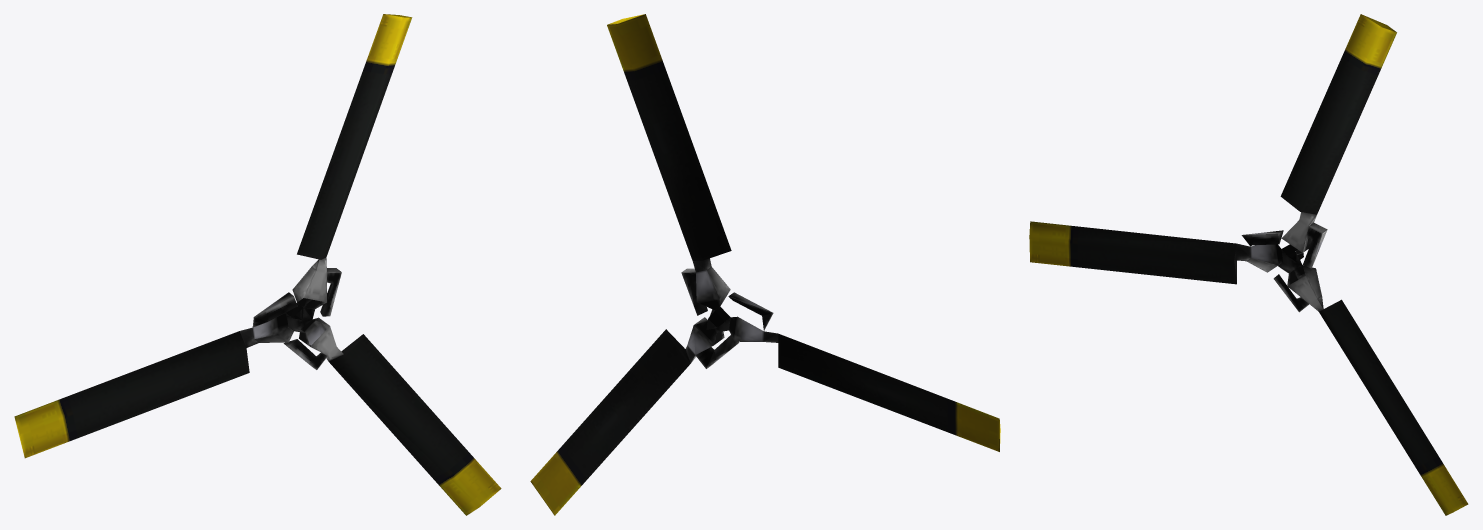
Rendered from backBlade9.obj.
3 renders of one model, left to right at view 1: azimuth 30°, elevation 25°; view 2: azimuth 150°, elevation 25°; view 3: azimuth 330°, elevation 25°, orthographic. The views are drawn at different scales.
Visible parts, largest first — view 1: Null_glass.005_Body; view 2: Null_glass.005_Body; view 3: Null_glass.005_Body.
Boxes of the visible parts, x1,y1,x2,y2 form: Null_glass.005_Body: [14, 14, 501, 515]; Null_glass.005_Body: [530, 14, 1000, 515]; Null_glass.005_Body: [1029, 14, 1468, 515].
Size of the model in its own units: 1.39 by 1.45 by 0.0838.
1 material, 1 textured.
